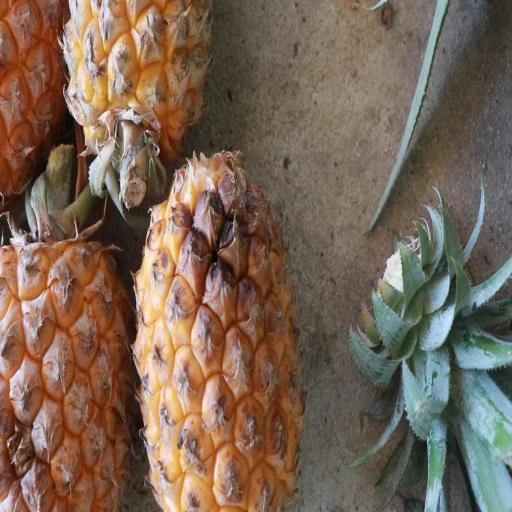Pineapple - v8 v1: (132, 141, 305, 512), (0, 145, 138, 511), (62, 0, 214, 197)
